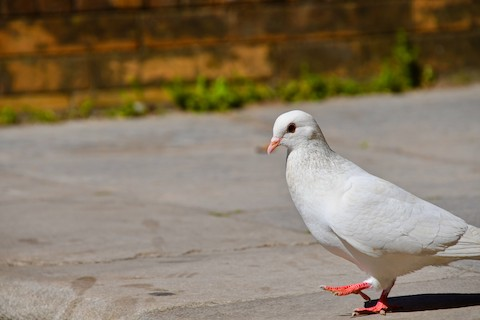pigeon: (259, 105, 480, 316)
